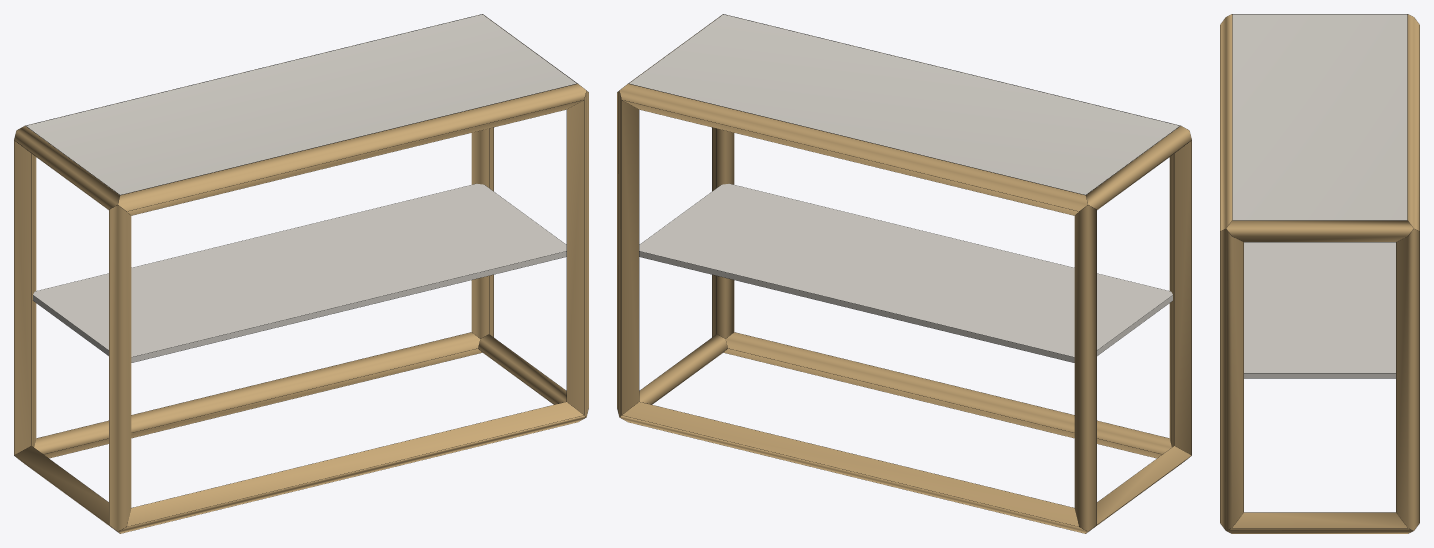
File: bureau-1200.glb
3 renders of one model, left to right at view 1: azimuth 30°, elevation 25°; view 2: azimuth 150°, elevation 25°; view 3: azimuth 270°, elevation 25°, orthographic. The views are drawn at different scales.
Visible parts, largest first — view 1: panneau-dessus_exterieur, mod-shelf-0, arete-X2, arete-X0, arete-X1, arete-Z0, arete-Z2, arete-Z1, arete-Z3, arete-Y2, arete-Y0, arete-Y1 (+4 smaller); view 2: panneau-dessus_exterieur, mod-shelf-0, arete-X3, arete-X1, arete-X0, arete-Z2, arete-Z0, arete-Z3, arete-Z1, arete-Y2, arete-Y0, arete-Y1 (+4 smaller); view 3: panneau-dessus_exterieur, mod-shelf-0, arete-Z1, arete-Z3, arete-Y3, arete-Y1, arete-X2, arete-X3, panneau-wire-dessus_exterieur, arete-wire-Z1, arete-wire-Z3, arete-wire-Y1 (+1 smaller).
Boxes of the visible parts, x1,y1,x2,y2 form: panneau-dessus_exterieur: [26, 14, 576, 194]; mod-shelf-0: [33, 183, 566, 362]; arete-X2: [118, 84, 586, 215]; arete-X0: [118, 402, 585, 533]; arete-X1: [34, 332, 481, 458]; arete-Z0: [109, 205, 131, 531]; arete-Z2: [14, 140, 36, 454]; arete-Z1: [567, 91, 588, 416]; arete-Z3: [471, 127, 493, 338]; arete-Y2: [14, 126, 119, 209]; arete-Y0: [14, 446, 118, 532]; arete-Y1: [478, 334, 566, 404]; panneau-dessus_exterieur: [629, 14, 1179, 194]; mod-shelf-0: [639, 183, 1172, 362]; arete-X3: [619, 84, 1087, 215]; arete-X1: [620, 402, 1087, 533]; arete-X0: [724, 332, 1171, 458]; arete-Z2: [1074, 205, 1096, 531]; arete-Z0: [1169, 140, 1191, 454]; arete-Z3: [617, 91, 638, 416]; arete-Z1: [712, 127, 734, 338]; arete-Y2: [1086, 126, 1191, 209]; arete-Y0: [1087, 446, 1191, 532]; arete-Y1: [639, 334, 727, 404]; panneau-dessus_exterieur: [1232, 14, 1407, 220]; mod-shelf-0: [1244, 242, 1395, 378]; arete-Z1: [1220, 229, 1243, 530]; arete-Z3: [1396, 229, 1419, 530]; arete-Y3: [1226, 220, 1413, 241]; arete-Y1: [1227, 512, 1412, 533]; arete-X2: [1220, 14, 1232, 230]; arete-X3: [1407, 14, 1419, 230]; panneau-wire-dessus_exterieur: [1232, 14, 1407, 220]; arete-wire-Z1: [1220, 229, 1243, 522]; arete-wire-Z3: [1396, 231, 1419, 522]; arete-wire-Y1: [1227, 512, 1412, 530].
Bounding box in the file's own units: 1.23 × 0.8288 × 0.4788.
